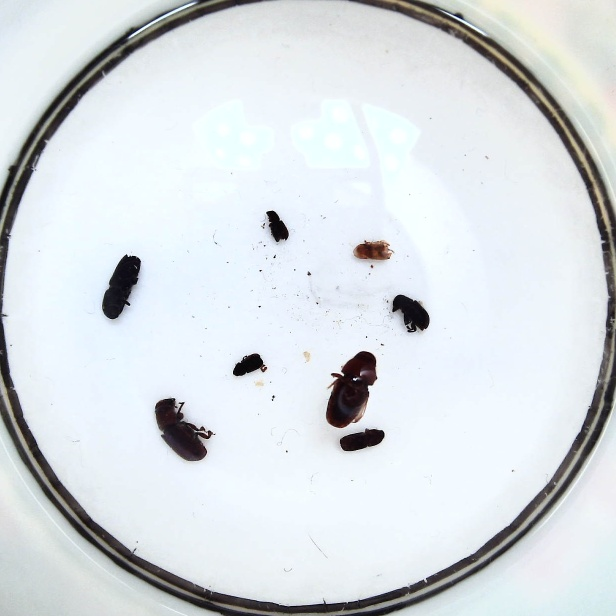acuminatus: (266, 210, 289, 242), (233, 353, 264, 376)
armandi: (392, 294, 429, 331)
boerner: (101, 254, 141, 319)
coleoptera: (353, 241, 391, 259)
leconte: (326, 351, 376, 429), (154, 398, 212, 461)
linnaeus: (340, 428, 385, 451)
